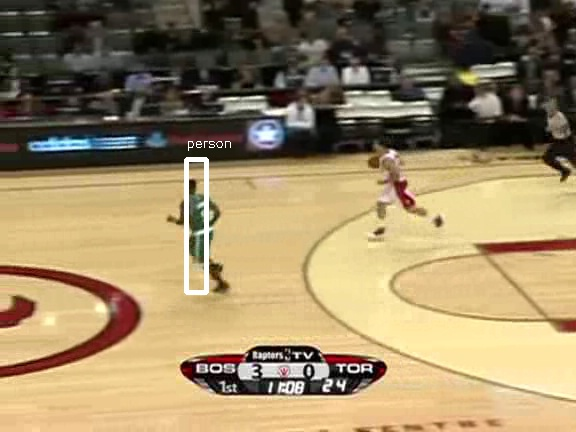person: (186, 190, 220, 271), (185, 190, 219, 271), (187, 190, 221, 271), (186, 189, 220, 270), (186, 191, 220, 272)
target_negative: (310, 240, 535, 414), (465, 66, 516, 427), (22, 323, 219, 385), (552, 135, 568, 421), (258, 398, 566, 406), (428, 367, 495, 369)
